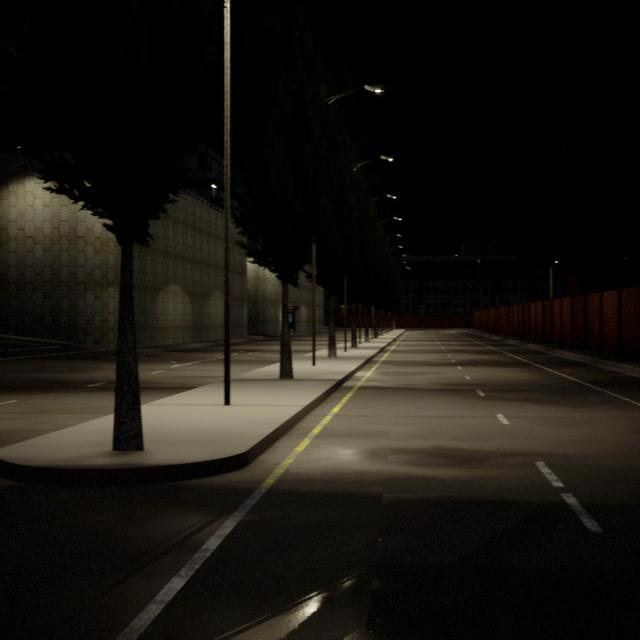Pedestrian: (503, 314, 508, 337)
